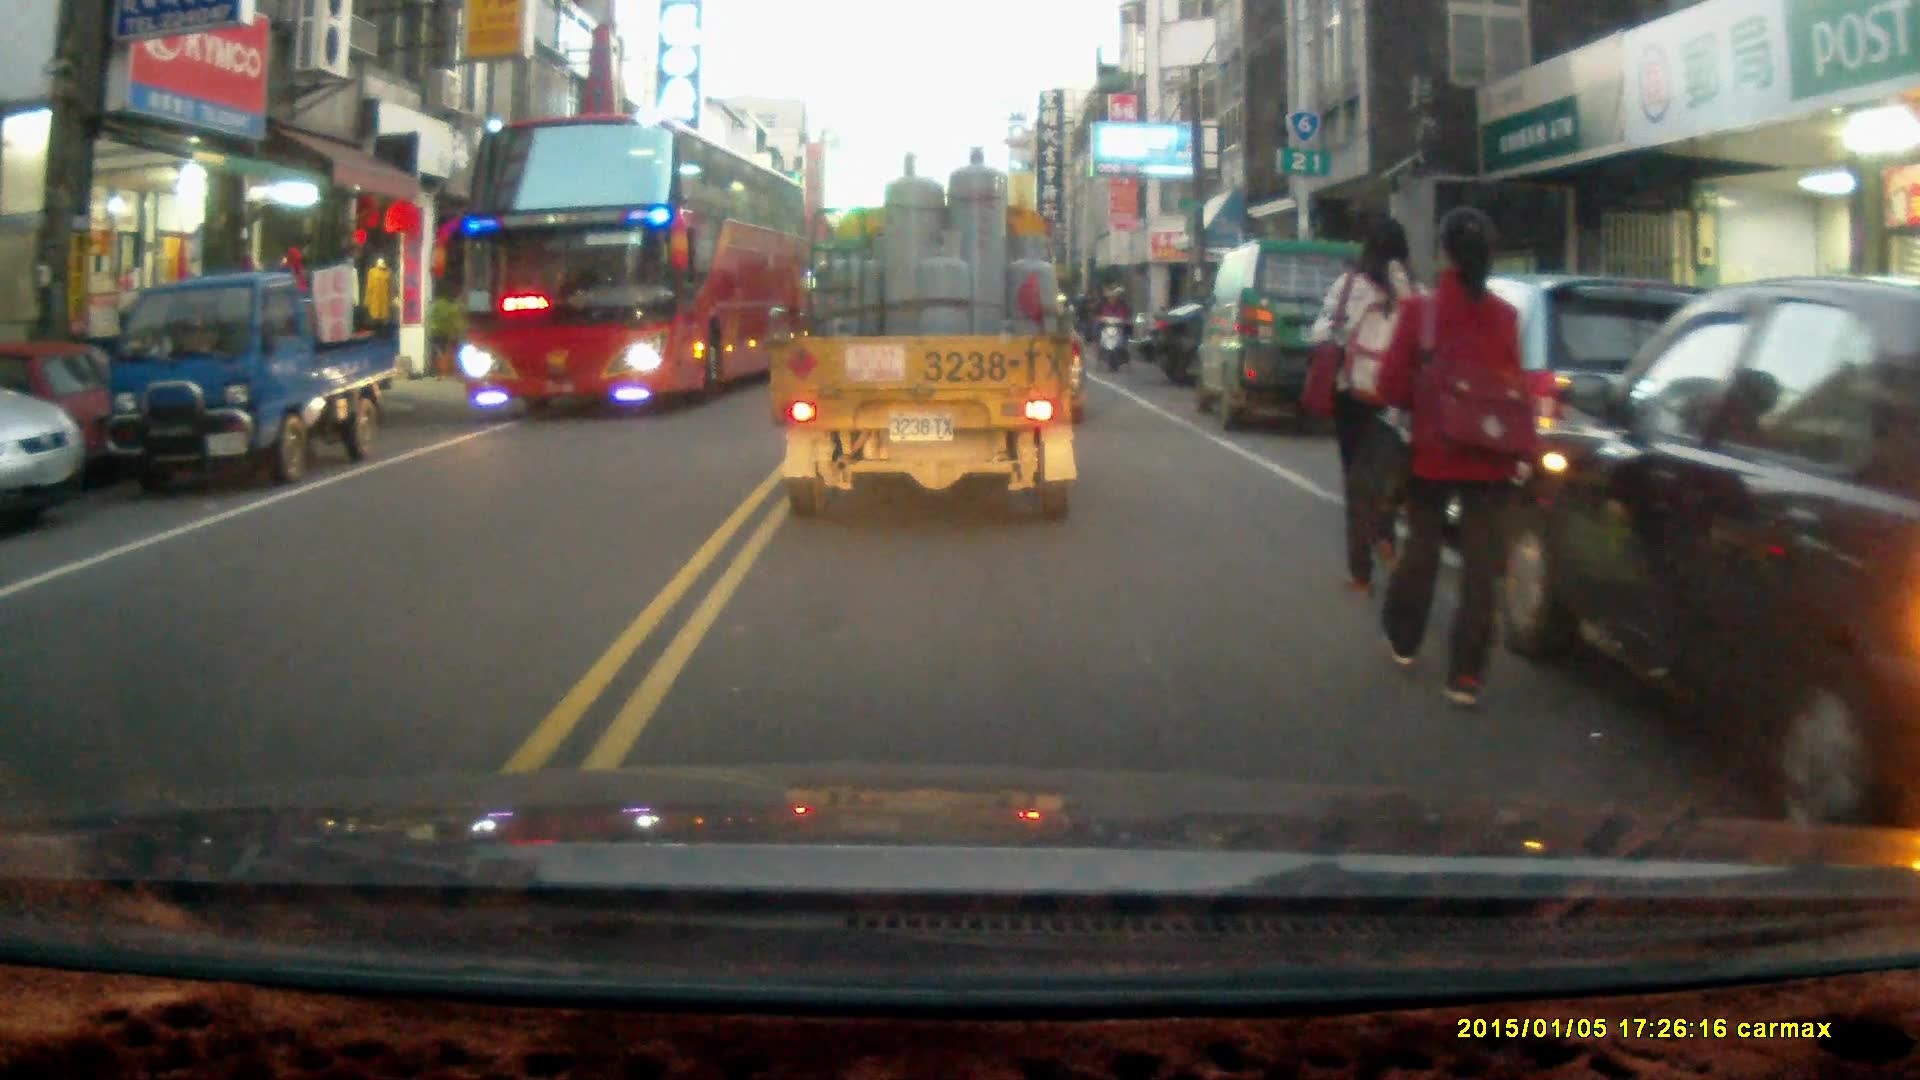pedestrian: (1371, 205, 1533, 710), (1317, 208, 1440, 604)
rider: (1093, 283, 1134, 371)
vehicle: (1488, 275, 1920, 825), (766, 143, 1086, 521), (452, 112, 808, 419), (104, 272, 394, 487), (1199, 235, 1391, 427), (1, 379, 86, 522)
